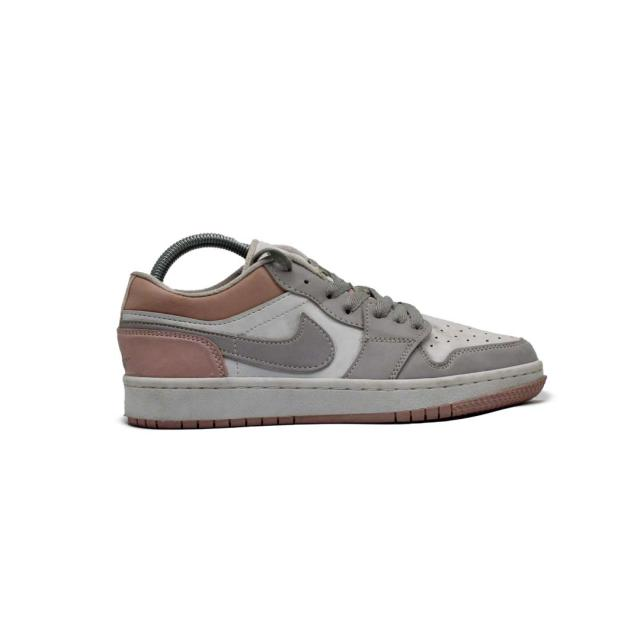heel: (112, 268, 160, 379)
midsole: (120, 372, 550, 429)
uppersole: (158, 260, 551, 381)
